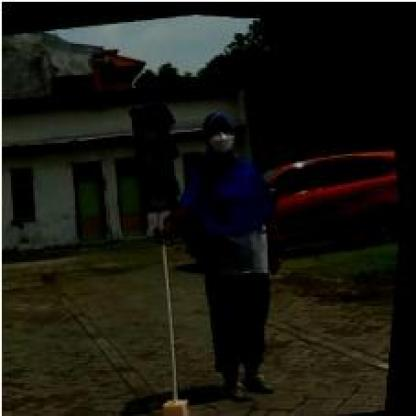yellow: (124, 98, 188, 210)
